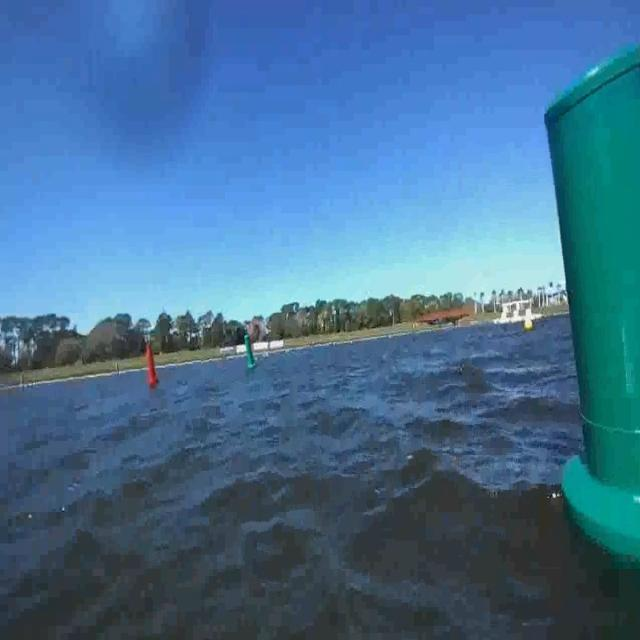green-column-buoy: (532, 50, 640, 580), (239, 331, 259, 376)
red-column-buoy: (139, 332, 164, 399)
